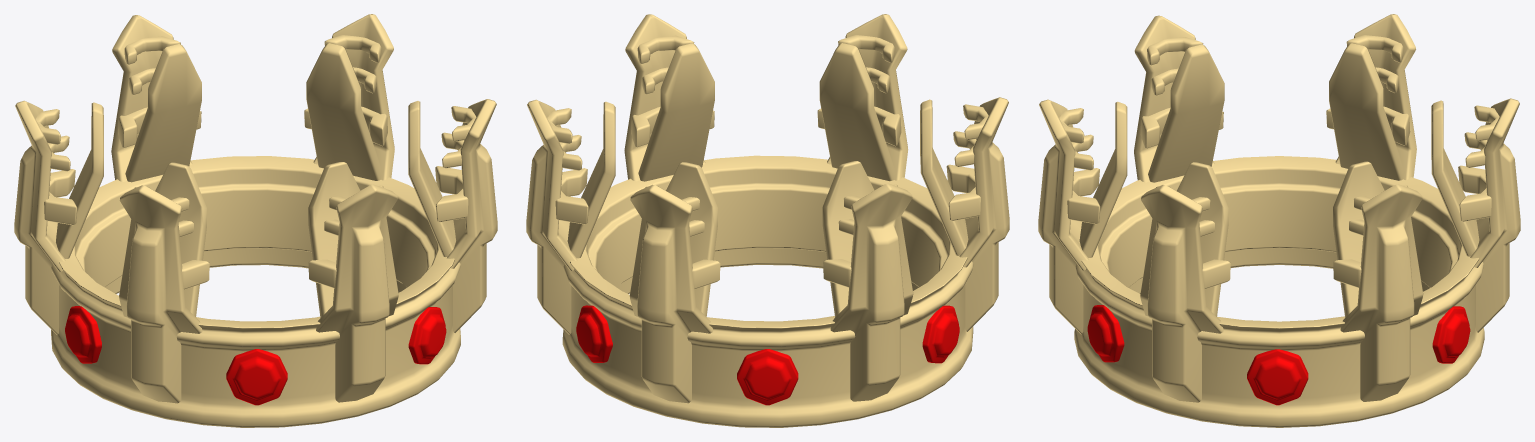
Rendered from SM_CrownHat.fbx.
3 views of the same model, side by side, from view 1: azimuth 30°, elevation 25°; view 2: azimuth 150°, elevation 25°; view 3: azimuth 270°, elevation 25° (orthographic).
Visible parts, largest first — view 1: Crown_anthena, Crown, Crown_gem; view 2: Crown_anthena, Crown, Crown_gem; view 3: Crown_anthena, Crown, Crown_gem.
Part boxes in pixels (left/top/right/bottom): Crown_anthena: left=14, top=14, right=497, bottom=403; Crown: left=51, top=156, right=460, bottom=427; Crown_gem: left=65, top=306, right=446, bottom=405; Crown_anthena: left=526, top=14, right=1009, bottom=403; Crown: left=562, top=155, right=973, bottom=427; Crown_gem: left=576, top=305, right=959, bottom=405; Crown_anthena: left=1038, top=14, right=1520, bottom=402; Crown: left=1074, top=156, right=1484, bottom=427; Crown_gem: left=1087, top=305, right=1470, bottom=405.
Bounding box in the file's own units: 17.77 × 19.97 × 11.17.
